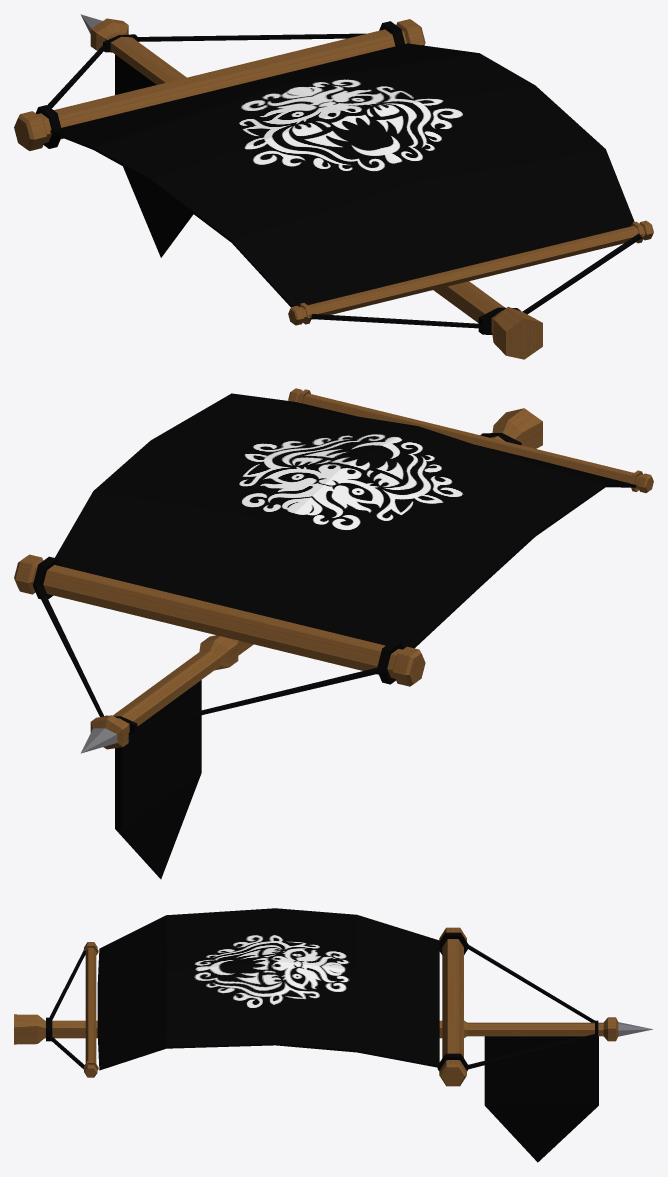
Rendered from sail_a_10.fbx.
3 renders of one model, top to bottom at view 1: azimuth 30°, elevation 25°; view 2: azimuth 150°, elevation 25°; view 3: azimuth 270°, elevation 25°, orthographic. The views are drawn at different scales.
Parts seen in each view (by area): view 1: Cube.060; view 2: Cube.060; view 3: Cube.060.
Part boxes in pixels (<box>): Cube.060: <box>14,14,653,359</box>; Cube.060: <box>14,388,653,879</box>; Cube.060: <box>14,908,652,1162</box>.
Bounding box in the file's own units: 107 × 72.22 × 208.
